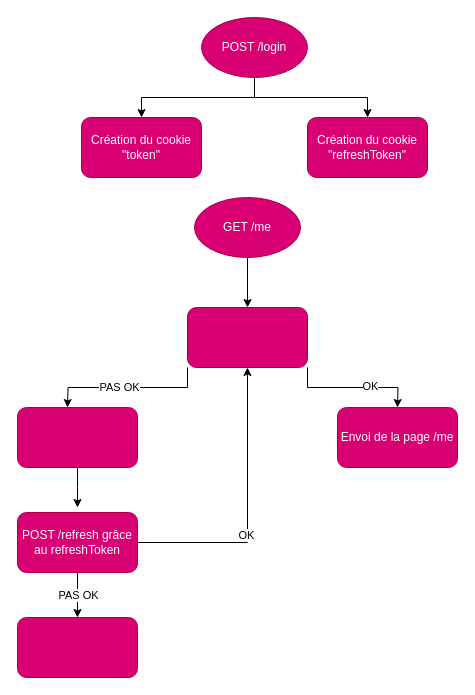
Some shapes in this 475 by 695 pixel diagram are drawn without their labels. Each missing label, with the centre of its shape:
Envoi de la page /login: the point at 77,647
HTTP 401: the point at 77,437
Réception des 2 cookies & v érification du token par le middleware: the point at 247,337
